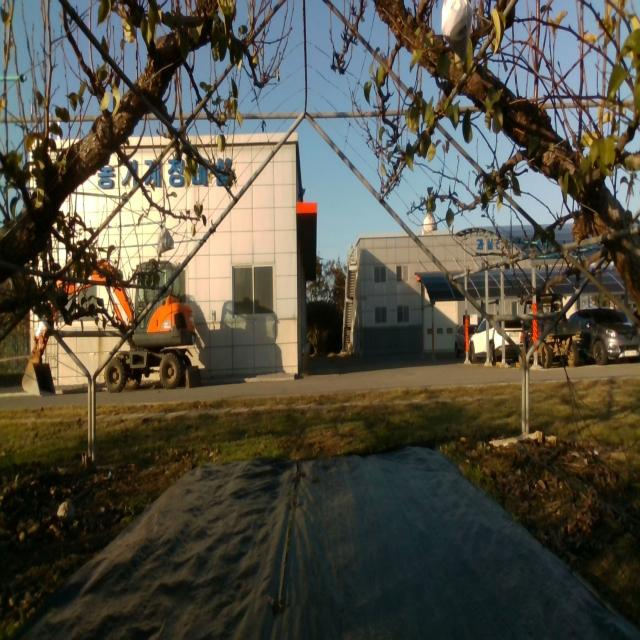pearbags: (440, 0, 473, 64), (157, 226, 176, 255), (421, 212, 438, 235)
